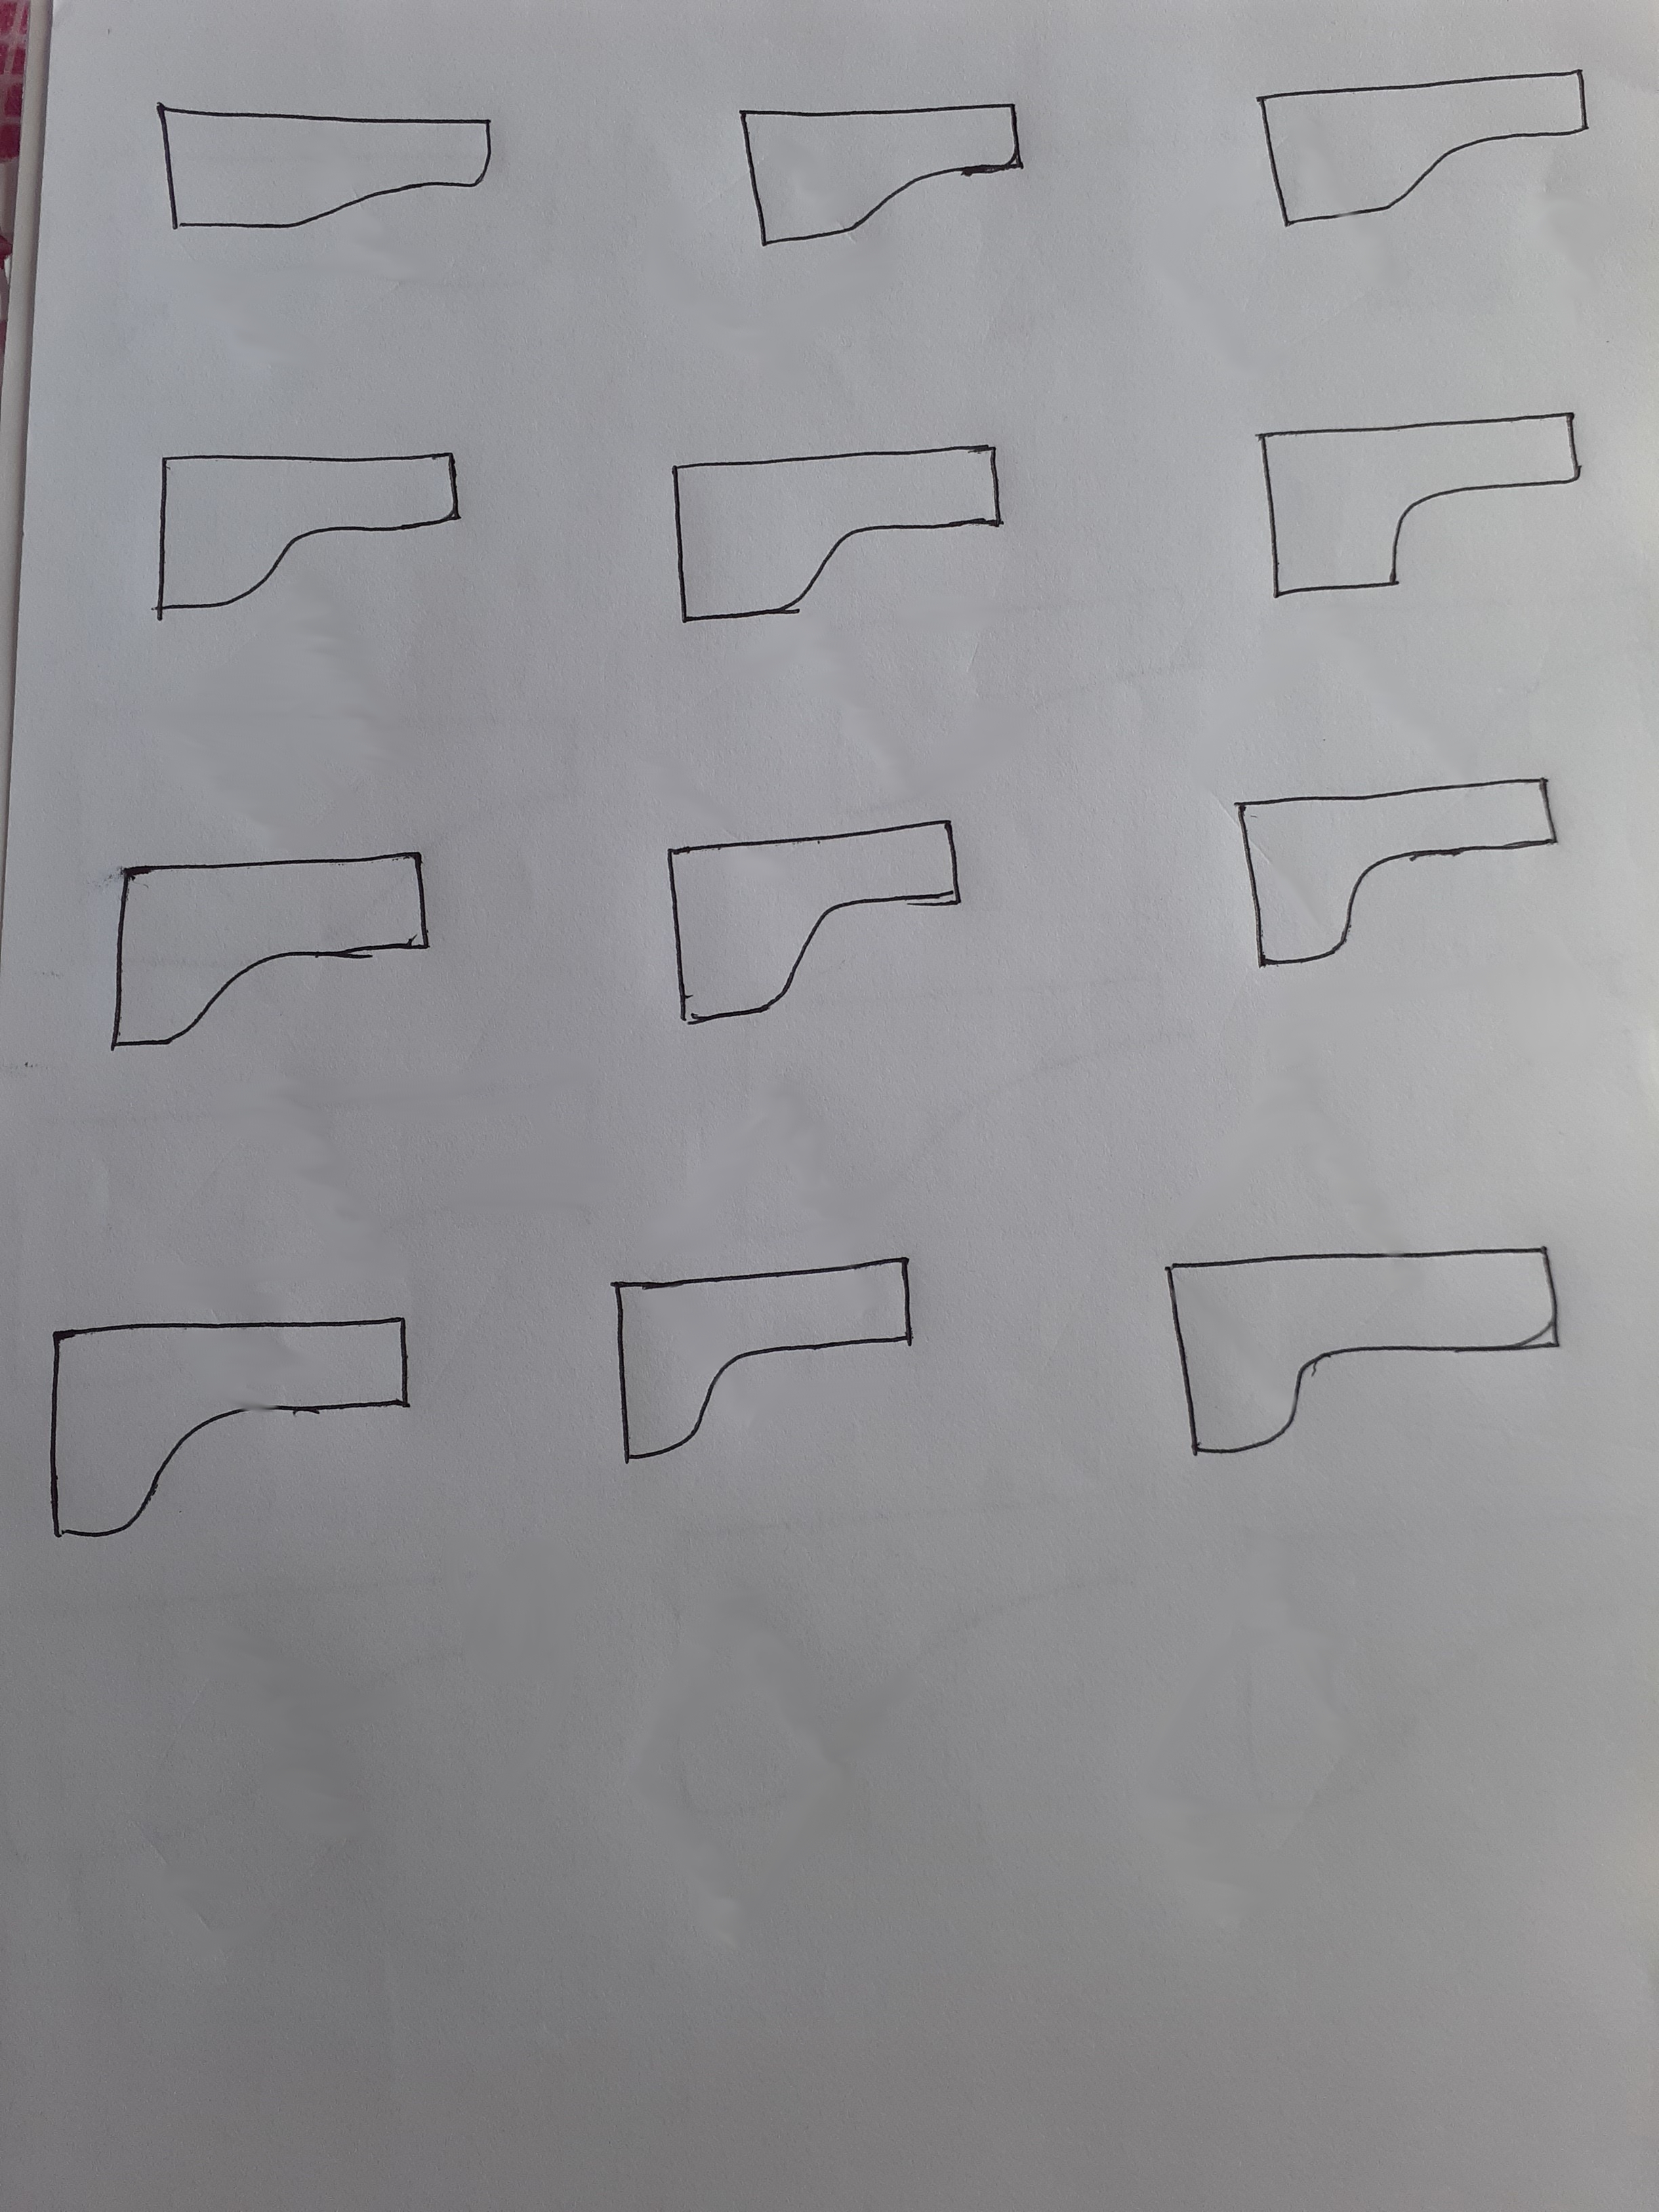print: (1115, 1217, 1607, 1496), (552, 1221, 1004, 1503), (10, 1289, 448, 1573), (1173, 747, 1563, 1012), (1220, 392, 1610, 636), (75, 819, 448, 1073), (641, 794, 979, 1073), (634, 408, 1028, 641), (122, 415, 481, 639), (1227, 56, 1610, 242), (115, 70, 523, 242), (713, 80, 1058, 263)
